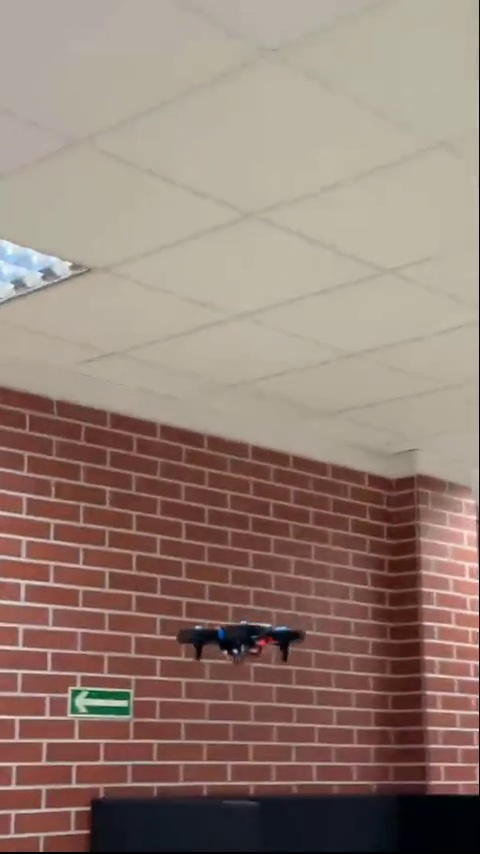drone: (173, 616, 297, 662)
